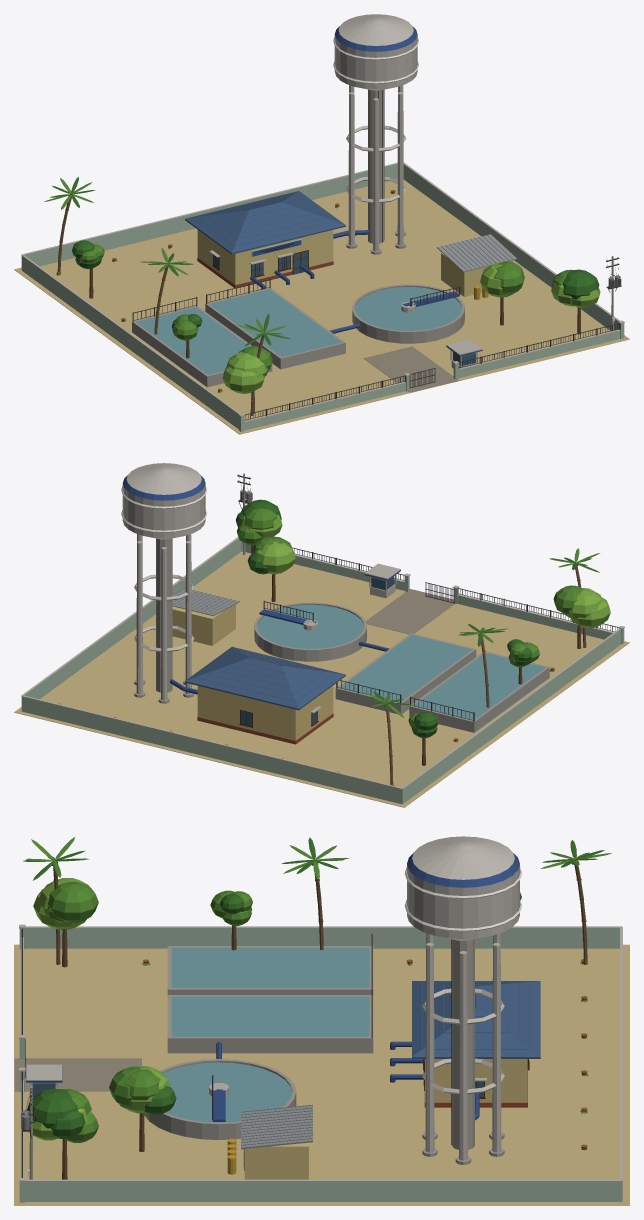
Rendered from water_works.glb.
3 views of the same model, one above another, from view 1: azimuth 30°, elevation 25°; view 2: azimuth 150°, elevation 25°; view 3: azimuth 270°, elevation 25° (orthographic). The views are drawn at different scales.
Visible parts, largest first — view 1: body, windows; view 2: body; view 3: body.
Part boxes in pixels (x1,y1,x2,y2): body: [14, 14, 629, 434]; windows: [213, 251, 475, 365]; body: [14, 463, 629, 807]; body: [14, 836, 629, 1205].
Bounding box in the file's own units: 47.9 × 26.14 × 47.9.
